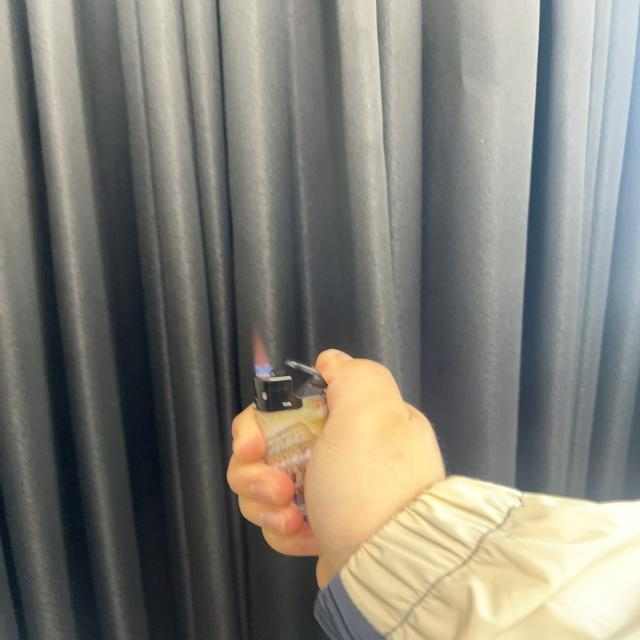fire: (252, 328, 274, 378)
